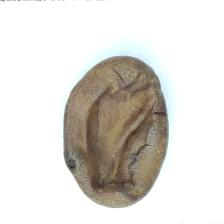NG: (83, 76, 155, 196)
